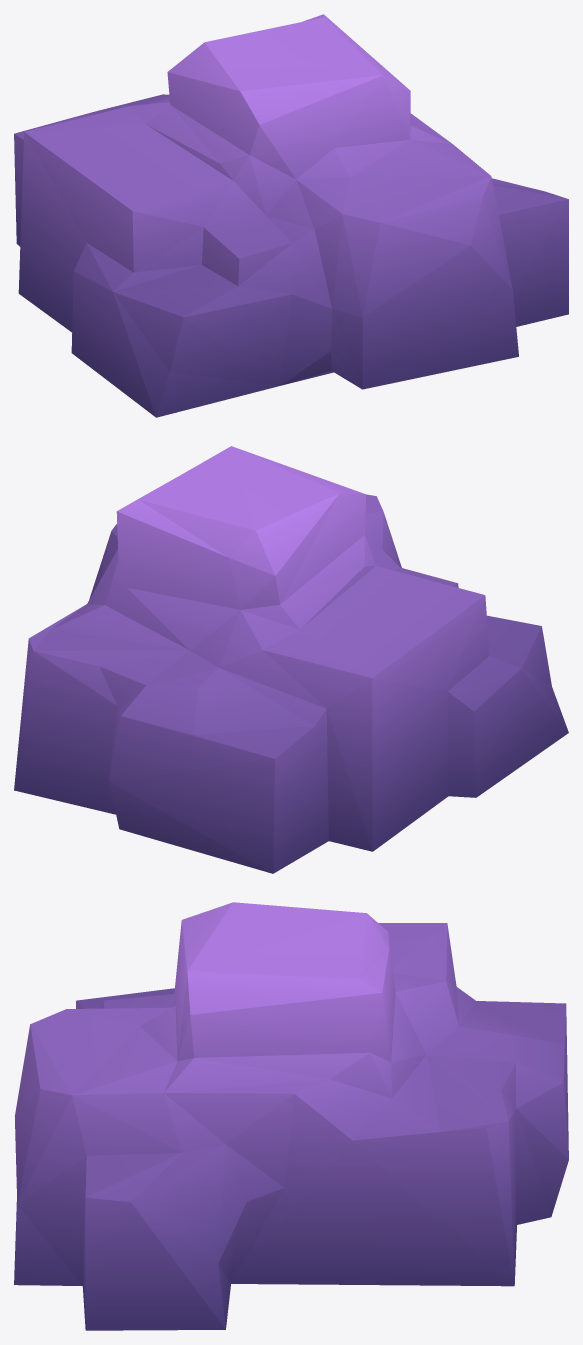
Rendered from Crystal_P_23.glb.
The picture shows the model from 3 angles, top to bottom: view 1: azimuth 30°, elevation 25°; view 2: azimuth 150°, elevation 25°; view 3: azimuth 270°, elevation 25°; orthographic projection. The views are drawn at different scales.
Parts seen in each view (by area): view 1: crystal_23; view 2: crystal_23; view 3: crystal_23.
Part boxes in pixels (x1=…): crystal_23: x1=14, y1=14, x2=568, y2=417; crystal_23: x1=14, y1=446, x2=568, y2=873; crystal_23: x1=14, y1=902, x2=568, y2=1330.
Size of the model in its own units: 1 by 0.5566 by 0.9984.
Materials: 1 (1 with a texture image).
